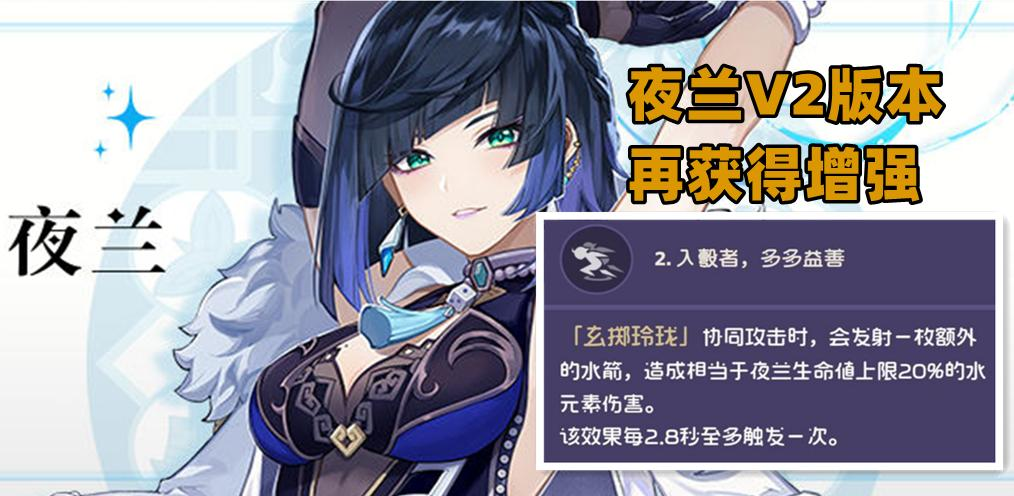夜兰: (245, 4, 825, 492)
